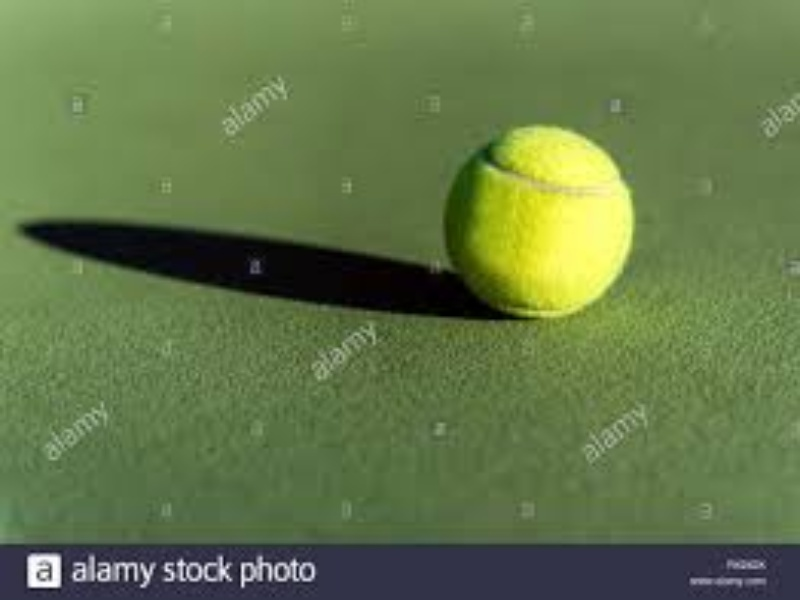tennis ball: (430, 116, 648, 327)
